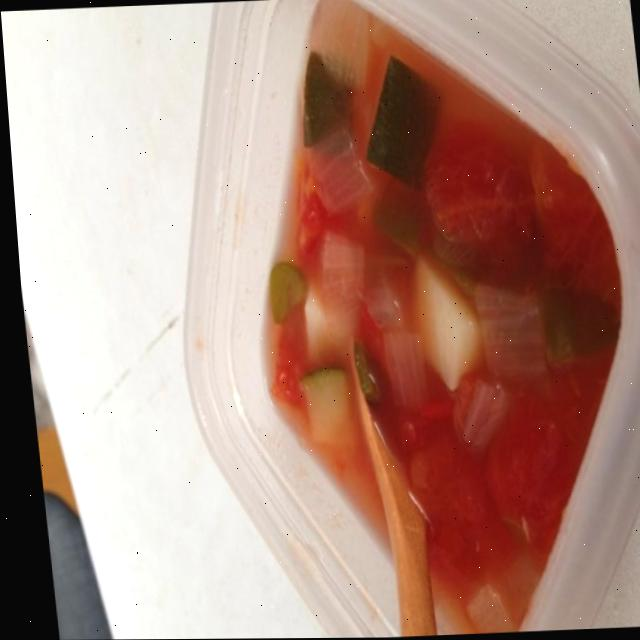汤锅炖物: (108, 0, 640, 639)
